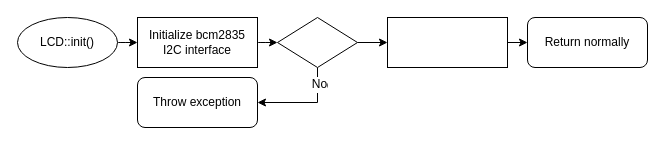
The diagram is 665 pixels wide and 145 high, and some of its shapes have lost their labels. The box of each missing label's shape, as (x1, y1, x2, y2) in pixels:
Initialize and configure LCD: (386, 16, 508, 68)
Success?: (276, 16, 358, 68)
